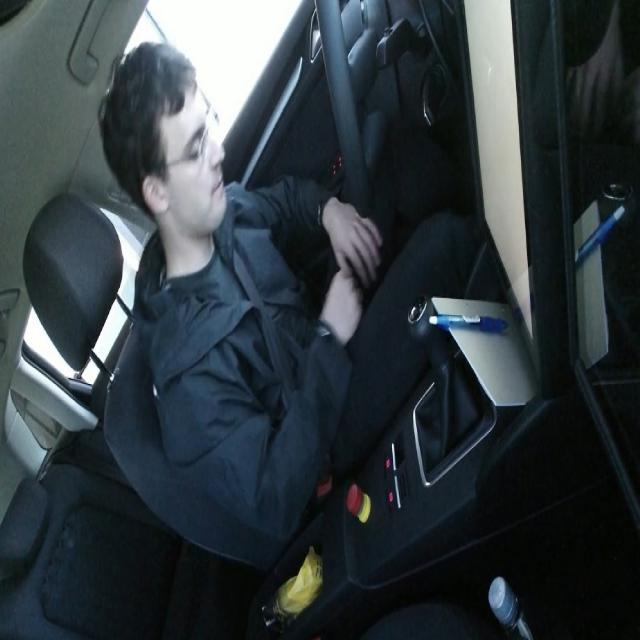pen: (428, 312, 508, 332)
